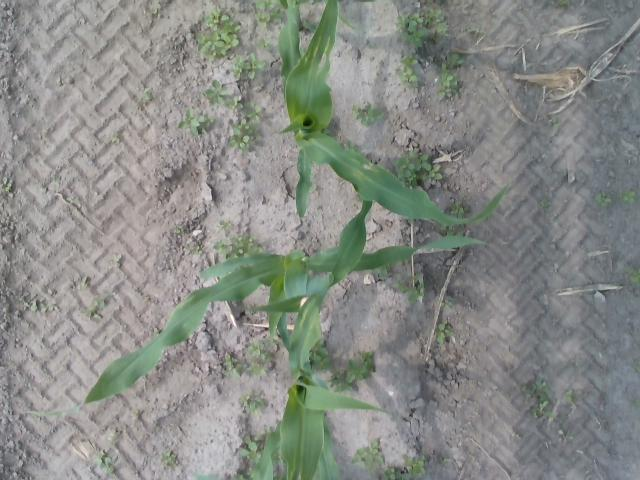Maize: (31, 236, 488, 416), (194, 201, 392, 480), (277, 0, 509, 226)
Weeds: (398, 5, 449, 47), (195, 21, 241, 57), (400, 150, 432, 180), (353, 440, 384, 468), (180, 111, 212, 136), (354, 102, 385, 126), (213, 238, 254, 255), (258, 1, 284, 27), (235, 54, 262, 78), (433, 76, 460, 98), (204, 81, 228, 104), (240, 392, 264, 414), (440, 52, 466, 72), (403, 455, 427, 476), (345, 361, 367, 382), (400, 280, 423, 300), (332, 370, 352, 392), (240, 436, 262, 456), (314, 346, 332, 370), (399, 67, 420, 87), (206, 8, 229, 26), (524, 381, 547, 399), (97, 455, 120, 472), (424, 164, 442, 183), (230, 134, 250, 150), (248, 102, 264, 122), (161, 451, 179, 468), (89, 302, 107, 319), (534, 400, 550, 419), (434, 322, 448, 343), (378, 466, 398, 480), (232, 116, 250, 131), (226, 96, 242, 112), (400, 52, 420, 64), (248, 343, 264, 358), (248, 358, 264, 373), (452, 201, 468, 215), (596, 192, 612, 206), (223, 354, 238, 368), (28, 301, 46, 312), (218, 220, 232, 233), (622, 189, 636, 202), (2, 178, 13, 192), (563, 390, 574, 404), (140, 88, 152, 100), (360, 352, 374, 362), (114, 252, 122, 268), (258, 40, 270, 50), (630, 270, 640, 282), (192, 246, 204, 256), (176, 226, 185, 235), (442, 300, 452, 308), (113, 133, 119, 144), (551, 116, 558, 125), (151, 6, 158, 13), (542, 200, 550, 206)
